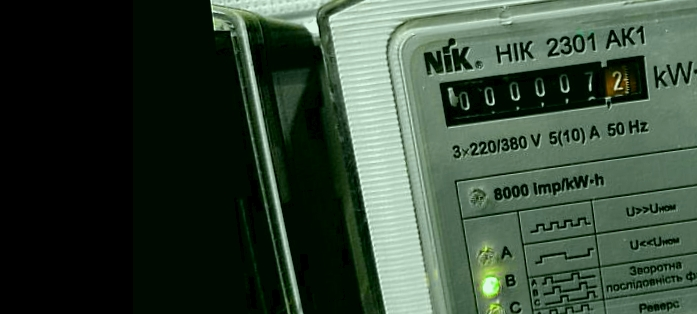0: (457, 88, 474, 113), (533, 75, 550, 100), (508, 79, 524, 104), (558, 71, 573, 96), (483, 85, 498, 108)
2: (611, 69, 626, 93)
7: (583, 68, 598, 94)
screen: (429, 44, 662, 137)
